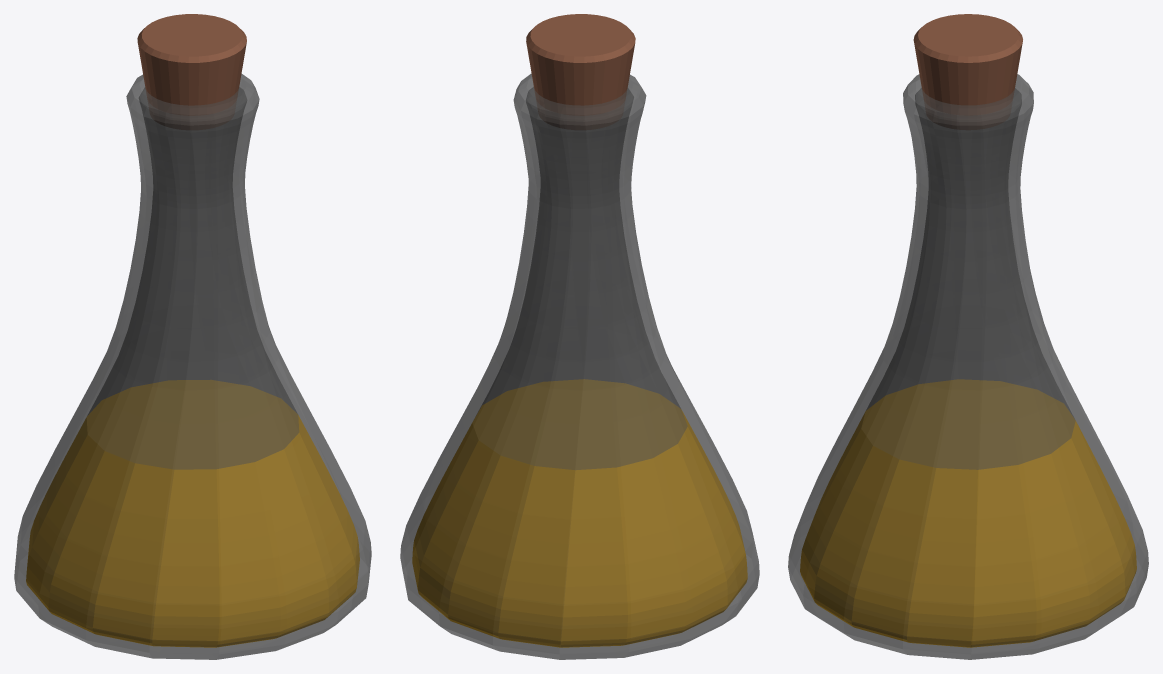
Rendered from potion2_shade1.fbx.
3 views of the same model, side by side, from view 1: azimuth 30°, elevation 25°; view 2: azimuth 150°, elevation 25°; view 3: azimuth 270°, elevation 25° (orthographic).
Parts seen in each view (by area): view 1: potion3.002; view 2: potion3.002; view 3: potion3.002.
Part boxes in pixels (box(x1,y1,x2,y2)): potion3.002: box(14, 14, 371, 659); potion3.002: box(400, 14, 759, 659); potion3.002: box(788, 14, 1148, 659).
Size of the model in its own units: 32.79 by 56.71 by 32.79.
